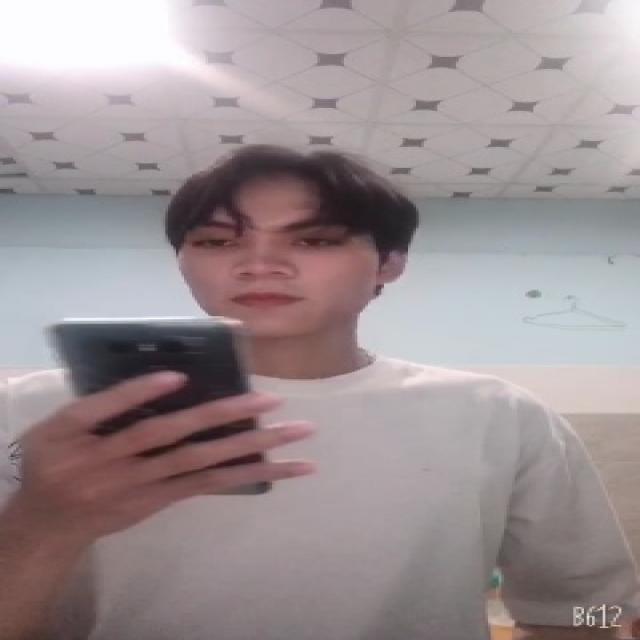Phone: (42, 316, 277, 494)
